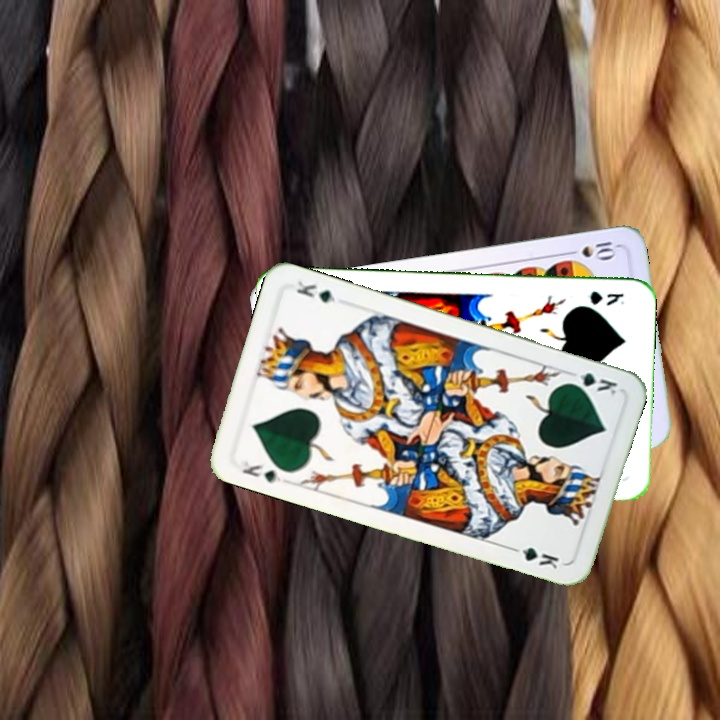GK: (562, 367, 620, 399), (238, 456, 285, 485), (585, 287, 627, 309)
S10: (561, 236, 620, 262)
